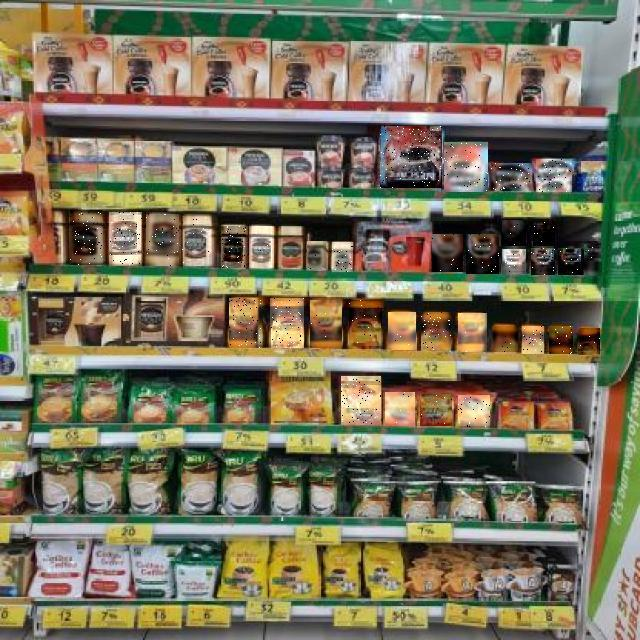Coffee: (380, 126, 442, 188), (444, 142, 488, 192), (341, 376, 381, 426), (109, 212, 142, 266), (70, 210, 102, 265), (146, 214, 179, 266), (270, 298, 304, 348), (349, 300, 382, 349), (230, 298, 262, 348), (310, 300, 342, 348), (182, 216, 212, 266), (466, 234, 499, 274), (536, 159, 572, 192), (432, 234, 463, 272), (491, 163, 532, 191), (421, 313, 451, 351), (458, 313, 487, 352), (389, 313, 417, 351), (249, 226, 274, 268), (420, 394, 452, 426), (458, 396, 490, 428), (385, 392, 415, 426), (222, 226, 246, 268), (558, 248, 584, 275), (549, 326, 573, 354), (493, 326, 518, 352), (531, 248, 555, 275), (332, 242, 353, 272), (503, 220, 527, 246), (522, 326, 544, 354), (503, 249, 527, 274), (578, 328, 600, 355), (308, 242, 328, 270), (533, 222, 555, 246), (584, 262, 602, 276), (584, 244, 601, 258)
